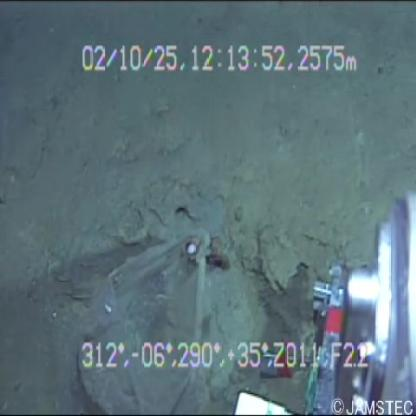Rov: (231, 165, 416, 416)
Rác: (66, 218, 222, 416)
